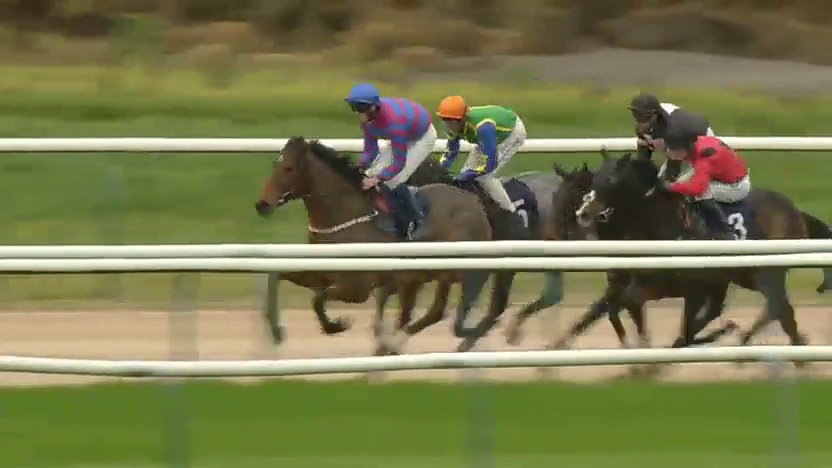jockey: (439, 96, 533, 224), (349, 87, 433, 226), (662, 128, 752, 209), (628, 95, 716, 165)
